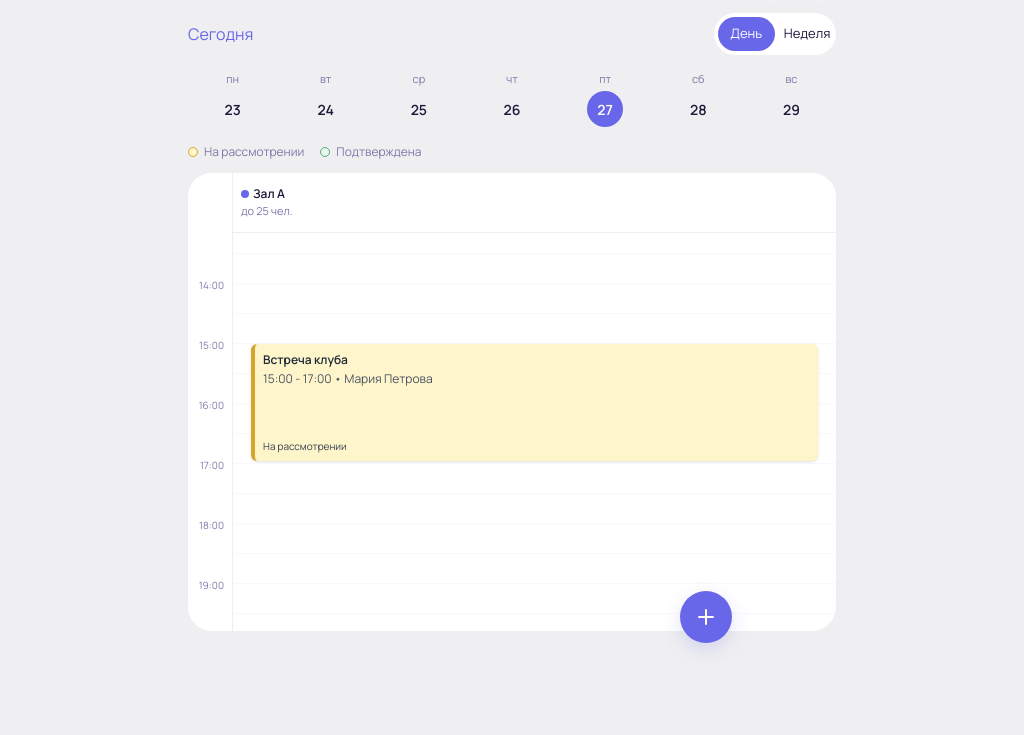
Test: opens a pending schedule booking and loads the matching entity from the next page of my applications
The width and height of the screenshot is (1024, 735).
(page scrolled)
Click the button named "Открыть заявку «Встреча клуба»" at (534, 402), box [251,344,818,460]
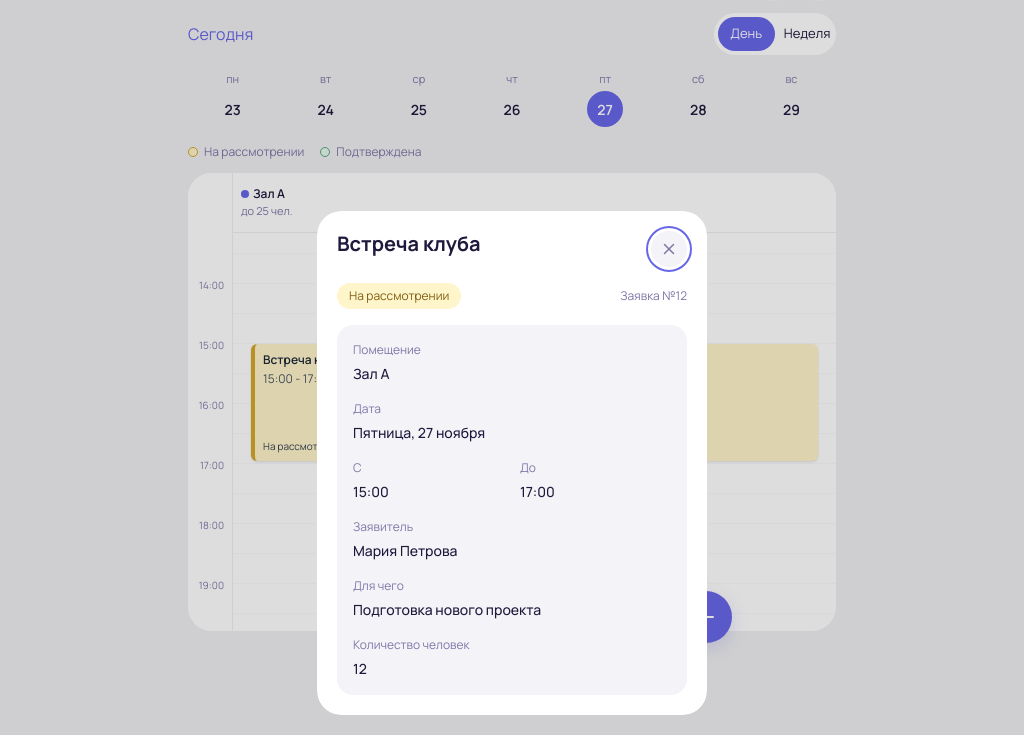
Now the text "Подготовка нового проекта" is shown, box [353,600,541,619]
